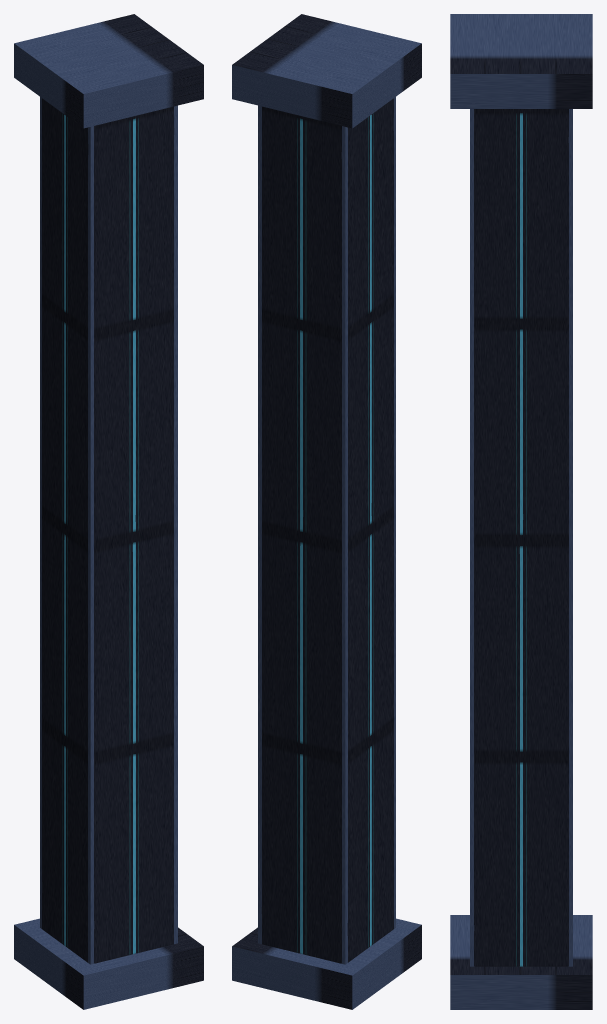
The model's file is pillar.obj.
3 renders of one model, left to right at view 1: azimuth 30°, elevation 25°; view 2: azimuth 150°, elevation 25°; view 3: azimuth 270°, elevation 25°, orthographic. The views are drawn at different scales.
Parts seen in each view (by area): view 1: pillar; view 2: pillar; view 3: pillar.
Part boxes in pixels (x1,y1,x2,y2): pillar: (14, 14, 203, 1009); pillar: (232, 14, 421, 1009); pillar: (450, 14, 592, 1009).
Size of the model in its own units: 2.2 by 16 by 2.2.
Materials: 1 (1 with a texture image).
